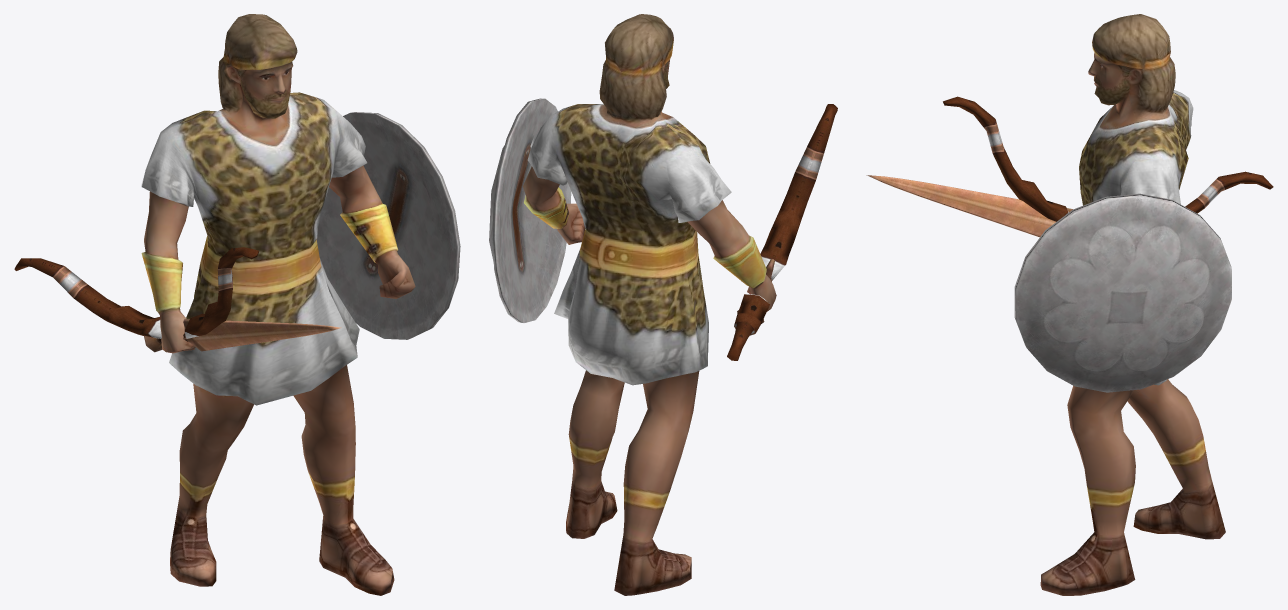
The model's file is 58-jason.glb.
The picture shows the model from 3 angles, left to right: view 1: azimuth 30°, elevation 25°; view 2: azimuth 150°, elevation 25°; view 3: azimuth 270°, elevation 25°; orthographic projection. The views are drawn at different scales.
Size of the model in its own units: 1.24 by 2.06 by 1.42.
4 materials, 4 textured.
